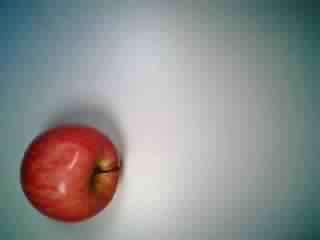apple: (20, 120, 123, 224)
